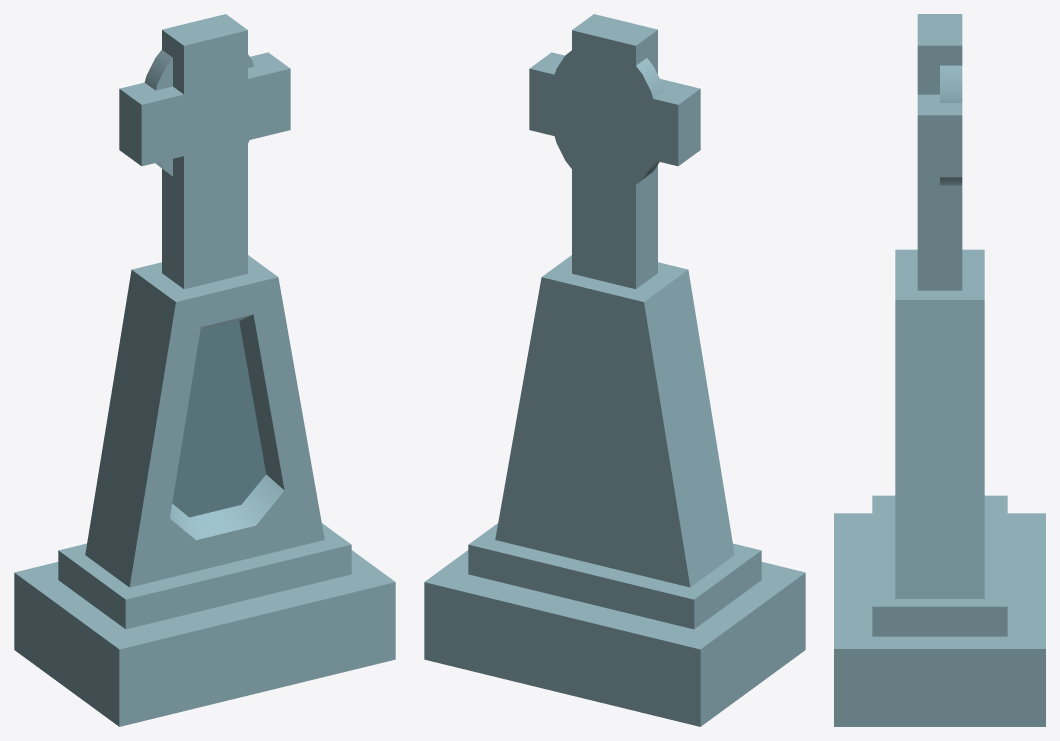
The model's file is gravestoneCross.obj.
3 views of the same model, side by side, from view 1: azimuth 30°, elevation 25°; view 2: azimuth 150°, elevation 25°; view 3: azimuth 270°, elevation 25° (orthographic).
Parts seen in each view (by area): view 1: gravestoneCross; view 2: gravestoneCross; view 3: gravestoneCross.
Boxes of the visible parts, x1,y1,x2,y2 form: gravestoneCross: (14, 14, 395, 726); gravestoneCross: (424, 14, 805, 726); gravestoneCross: (834, 14, 1045, 726).
Bounding box in the file's own units: 0.4415 × 0.9543 × 0.2913.
